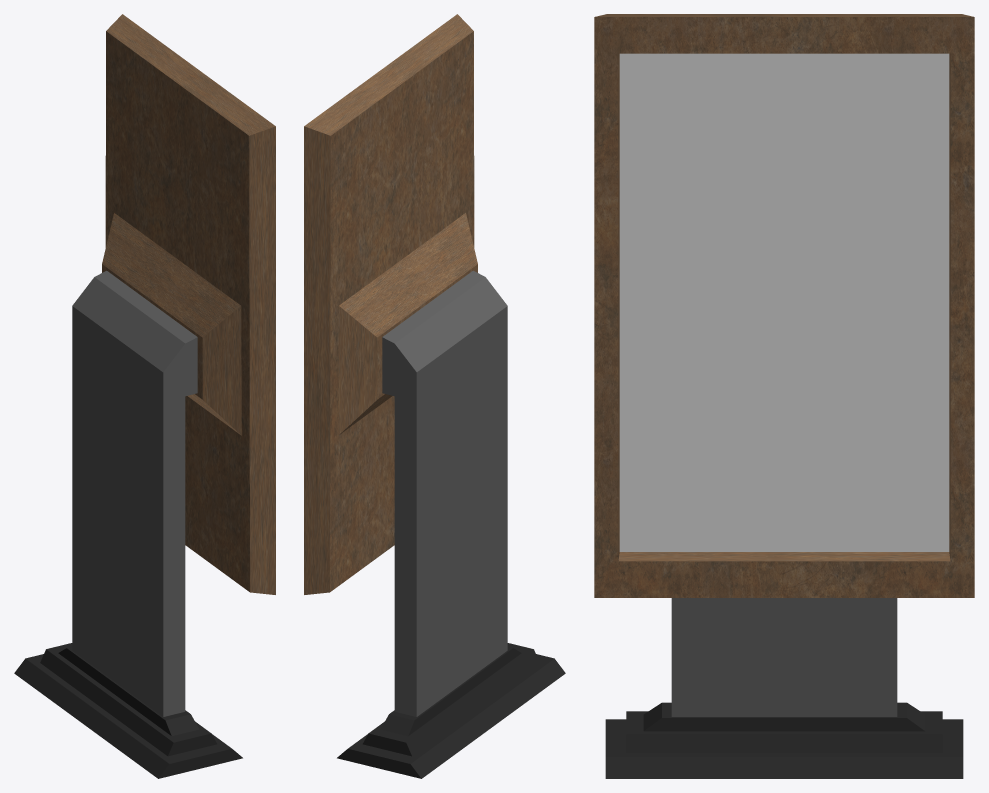
Rendered from placard.glb.
The picture shows the model from 3 angles, left to right: view 1: azimuth 30°, elevation 25°; view 2: azimuth 150°, elevation 25°; view 3: azimuth 270°, elevation 25°; orthographic projection. The views are drawn at different scales.
Visible parts, largest first — view 1: Cube; view 2: Cube; view 3: Cube.
Part boxes in pixels (box(x1,y1,x2,y2)): Cube: box(14, 14, 275, 778); Cube: box(304, 14, 565, 778); Cube: box(594, 14, 974, 778).
Bounding box in the file's own units: 0.8928 × 4.75 × 2.1.
4 materials, 1 textured.
